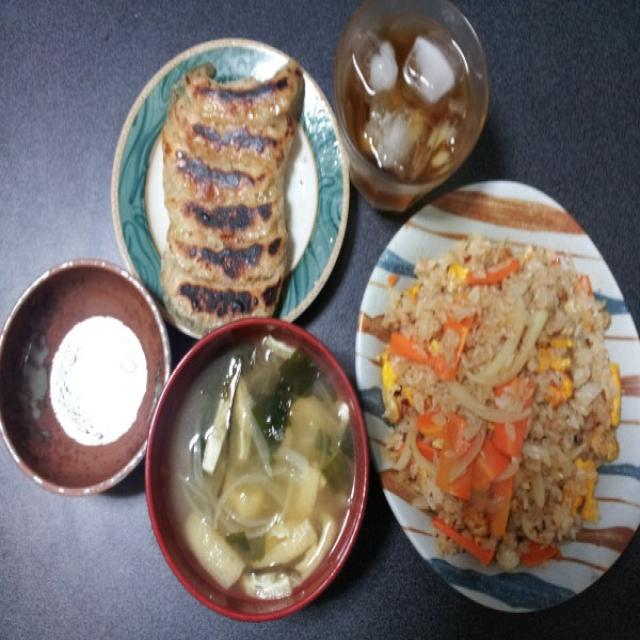带馅早点: (113, 38, 354, 348)
汤锅炖物: (156, 314, 375, 622)
米饭主食: (349, 170, 640, 620)
